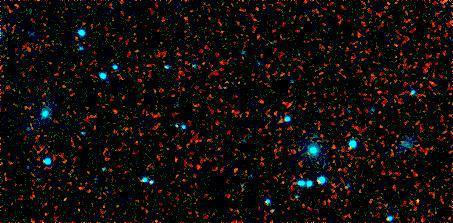star: (402, 188, 432, 218)
